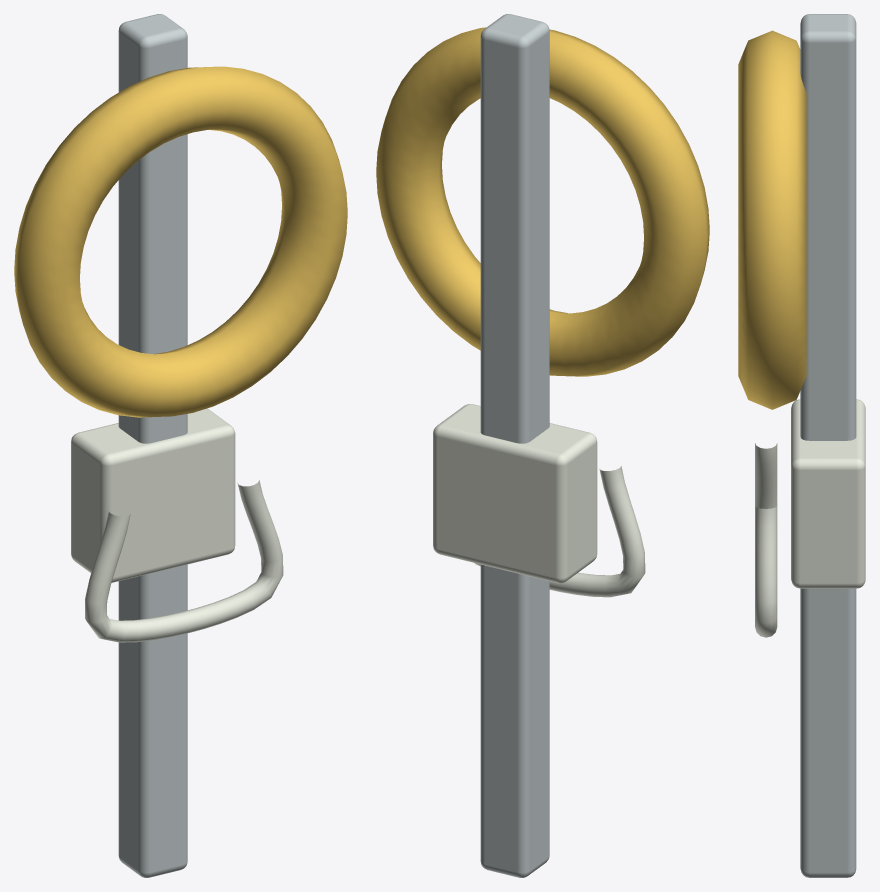
File: hydroelectric-dam-infiltration-life-ring-station-d701f630__29375.glb
3 renders of one model, left to right at view 1: azimuth 30°, elevation 25°; view 2: azimuth 150°, elevation 25°; view 3: azimuth 270°, elevation 25°, orthographic.
Parts seen in each view (by area): view 1: life-ring-station; view 2: life-ring-station; view 3: life-ring-station.
Part boxes in pixels (x1,y1,x2,y2): life-ring-station: [14, 14, 347, 877]; life-ring-station: [376, 14, 709, 877]; life-ring-station: [738, 14, 865, 877].
Size of the model in its own units: 0.61 by 1.5 by 0.205.
